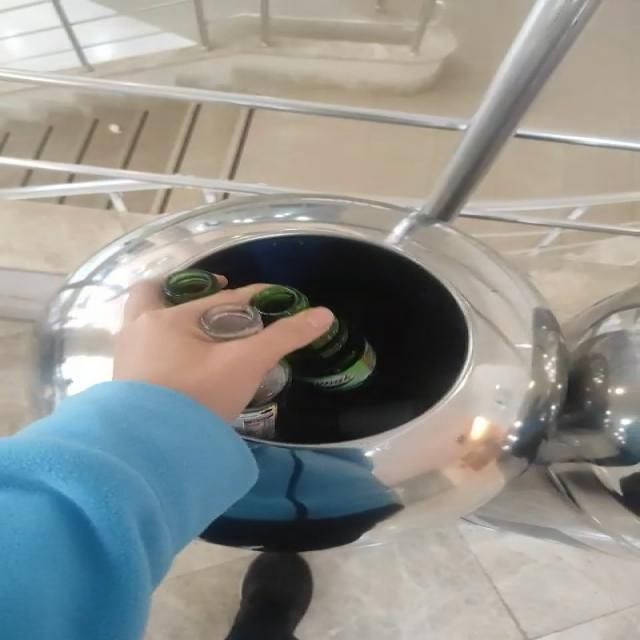glass: (233, 318, 377, 439), (200, 285, 309, 340), (161, 269, 227, 304)
